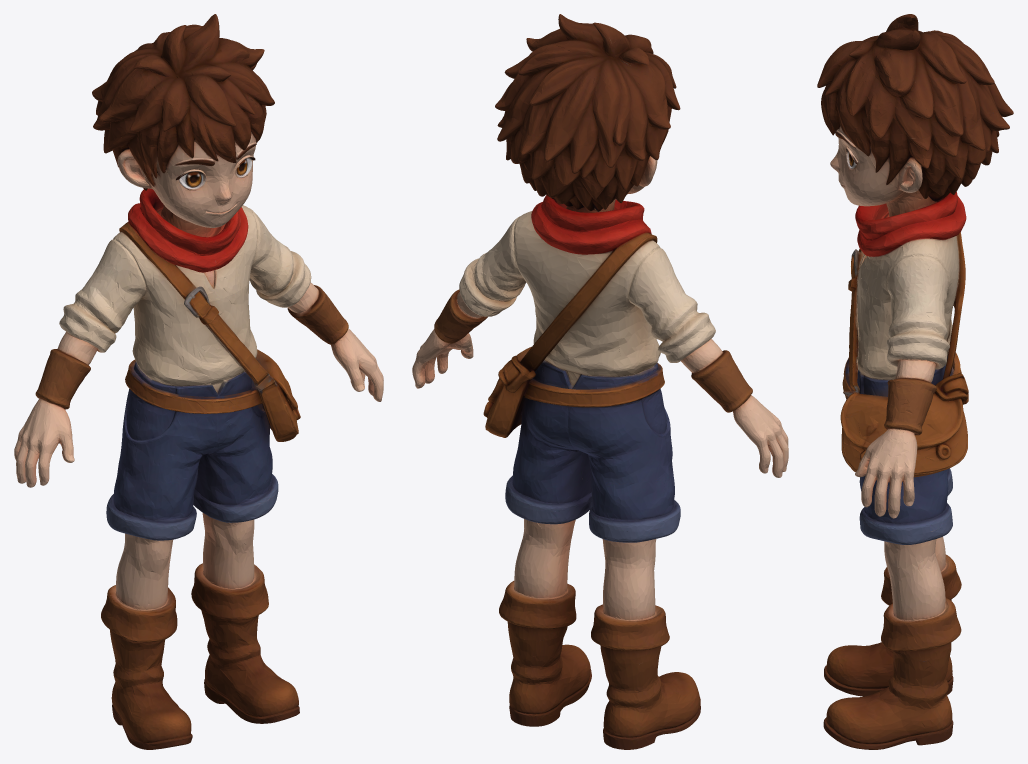
The model's file is hero-optimized.glb.
3 views of the same model, side by side, from view 1: azimuth 30°, elevation 25°; view 2: azimuth 150°, elevation 25°; view 3: azimuth 270°, elevation 25° (orthographic). The views are drawn at different scales.
Parts seen in each view (by area): view 1: world; view 2: world; view 3: world.
Part boxes in pixels (x1,y1,x2,y2): world: (14,14,383,749); world: (412,14,788,749); world: (817,14,1013,749).
Bounding box in the file's own units: 0.5473 × 1 × 0.2558.
1 material, 1 textured.
